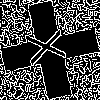X: (25, 25, 76, 67)
